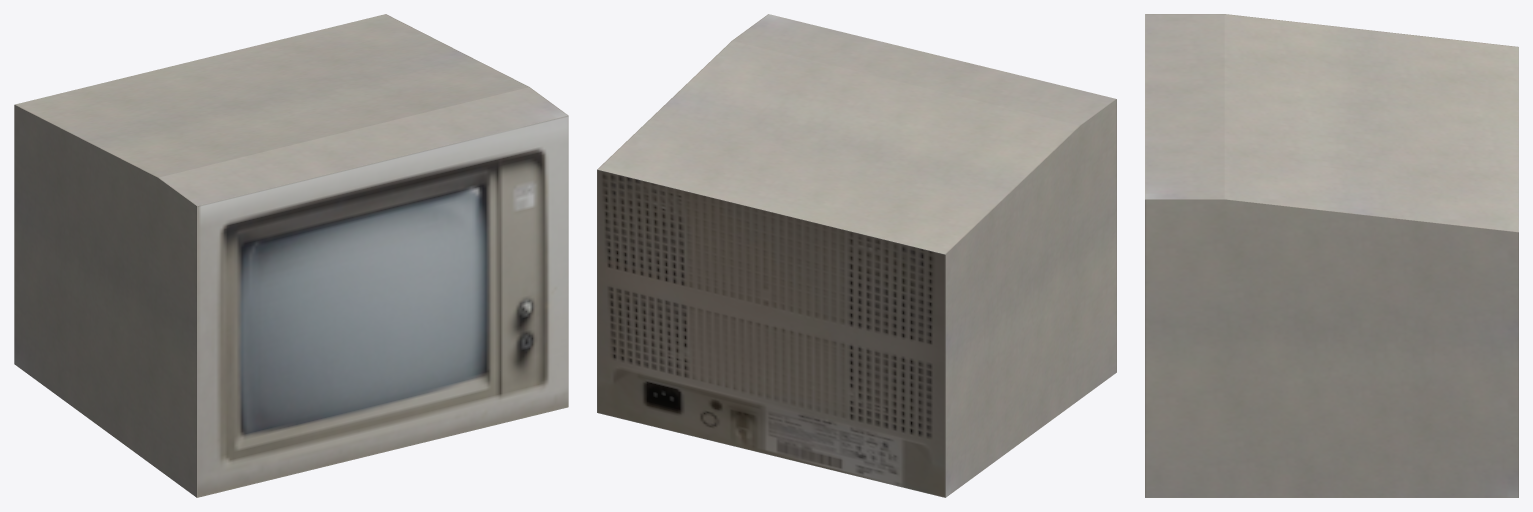
The model's file is computer_monitor.fbx.
The picture shows the model from 3 angles, left to right: view 1: azimuth 30°, elevation 25°; view 2: azimuth 150°, elevation 25°; view 3: azimuth 270°, elevation 25°; orthographic projection. The views are drawn at different scales.
Parts seen in each view (by area): view 1: computer_monitor; view 2: computer_monitor; view 3: computer_monitor.
Part boxes in pixels (x1,y1,x2,y2): computer_monitor: (14,14,568,497); computer_monitor: (597,14,1116,497); computer_monitor: (1145,14,1518,497).
Size of the model in its own units: 40 by 30 by 34.07.
